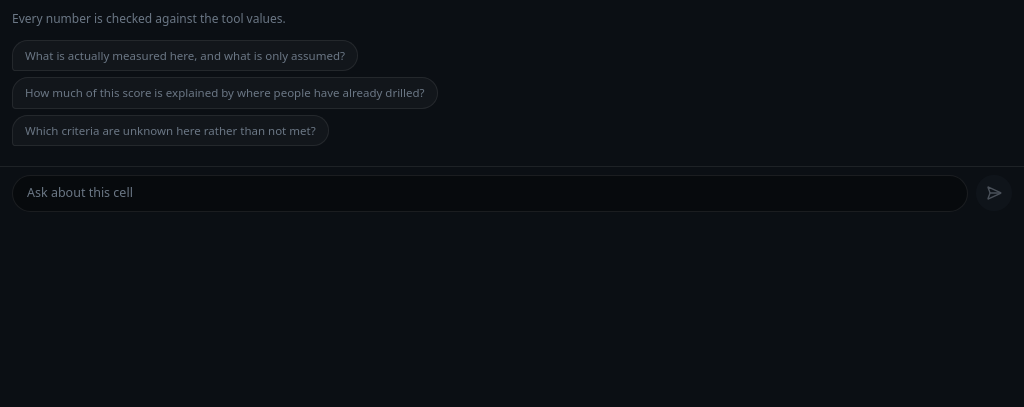
Test: the chat panel with the interface agent › reports a finished job on a later turn with the diff against the stored chain
The image size is (1024, 407).
Click the button "What is actually measured here, and what is only assumed?": (185,56) [12, 40, 358, 71]
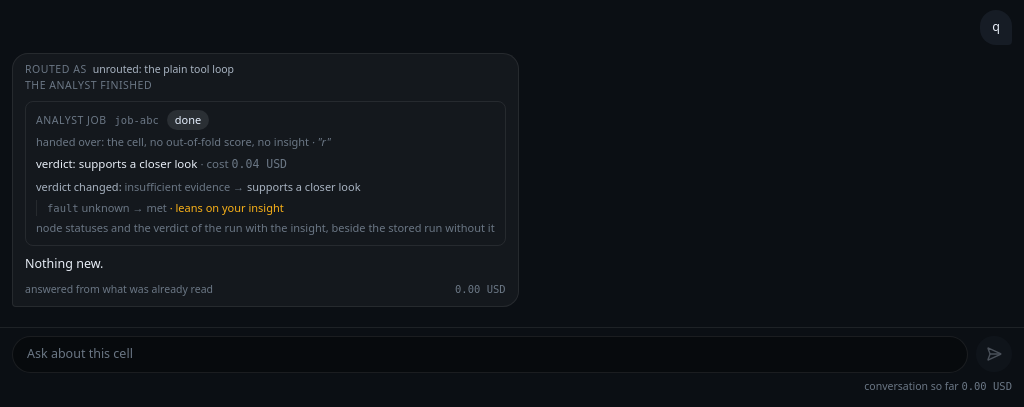
Now the element with test id "chat-job-done" shows "the analyst finished", box [25, 78, 152, 92]
Now the element with test id "chat-assessment" shows "verdict changed", box [36, 179, 495, 237]
Now the element with test id "chat-assessment" shows "insufficient evidence", box [124, 179, 230, 194]
